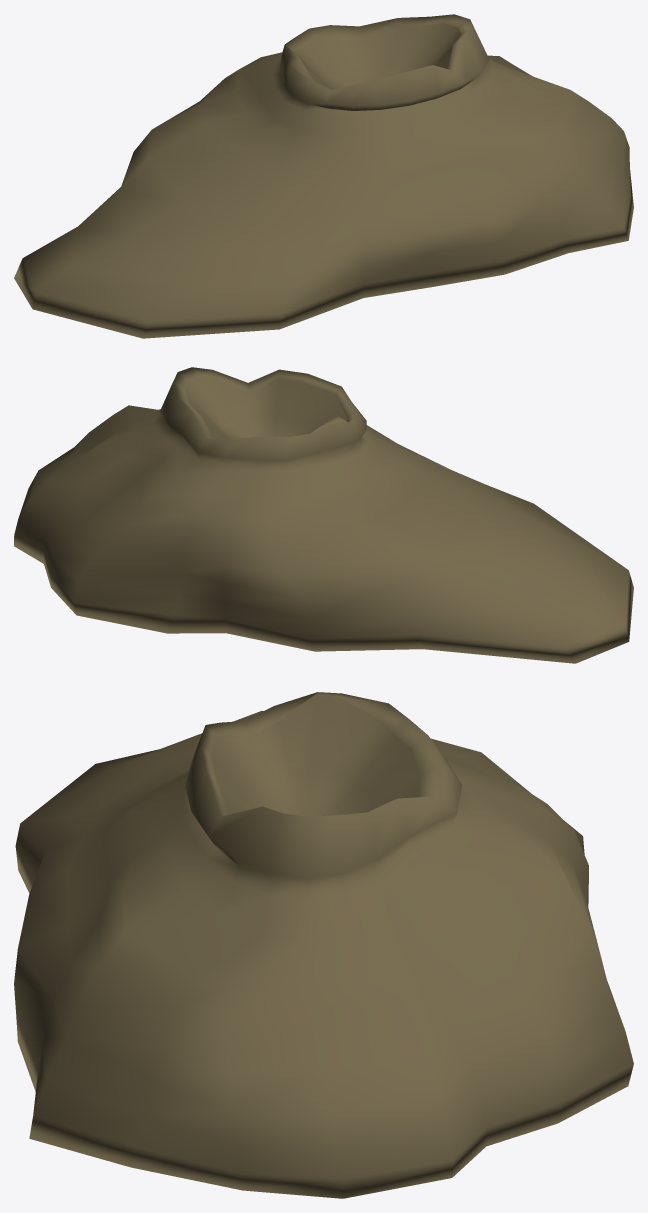
File: GeyserMesh.fbx
3 views of the same model, one above another, from view 1: azimuth 30°, elevation 25°; view 2: azimuth 150°, elevation 25°; view 3: azimuth 270°, elevation 25° (orthographic). The views are drawn at different scales.
Parts seen in each view (by area): view 1: GeyserMesh; view 2: GeyserMesh; view 3: GeyserMesh.
Part boxes in pixels (x1,y1,x2,y2): GeyserMesh: (14,14,633,338); GeyserMesh: (14,367,633,663); GeyserMesh: (14,692,633,1198).
Size of the model in its own units: 10.36 by 2.87 by 5.99.
